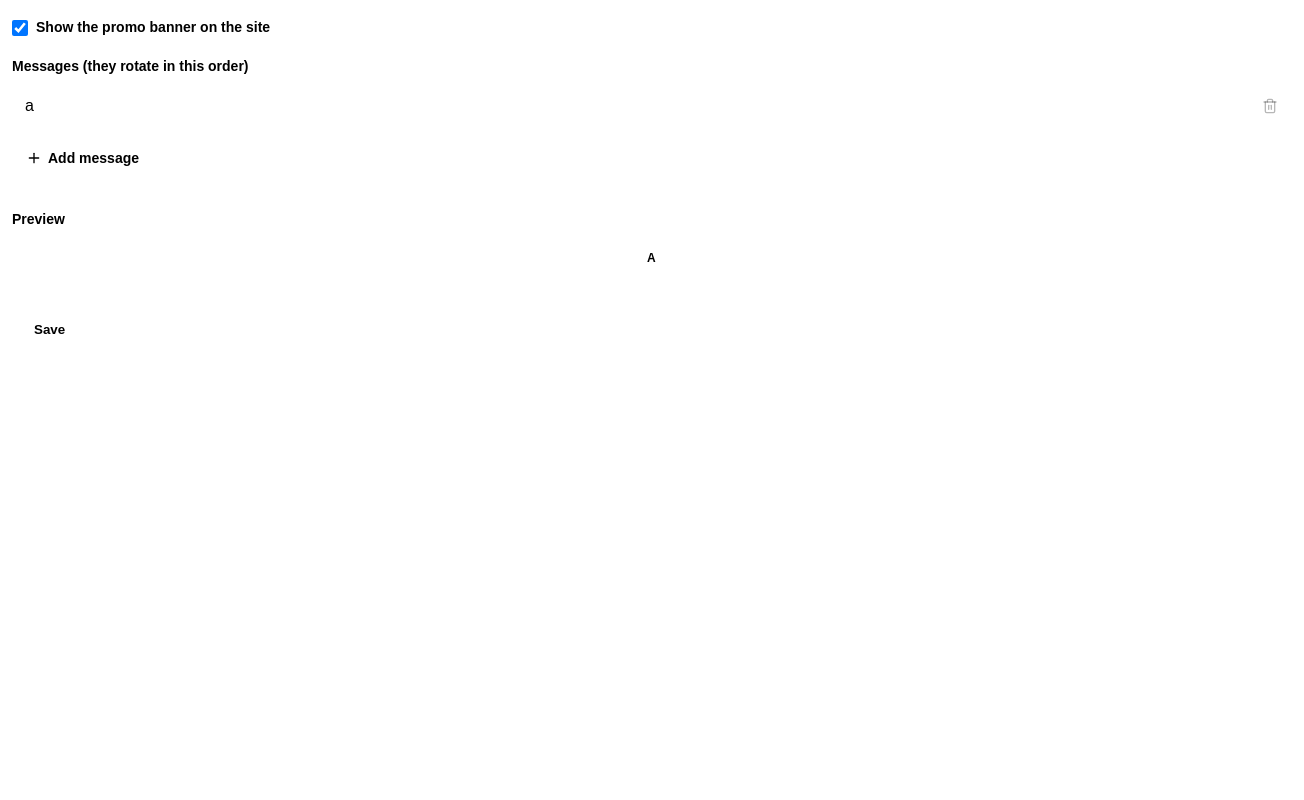
PromoBannerForm › adds and removes messages, capping at 6
The image size is (1304, 800).
Expected: the field showing "a" is shown, [12,82,1240,131]
Click the button "Add message" at [94, 158], box [12,139,1292,178]
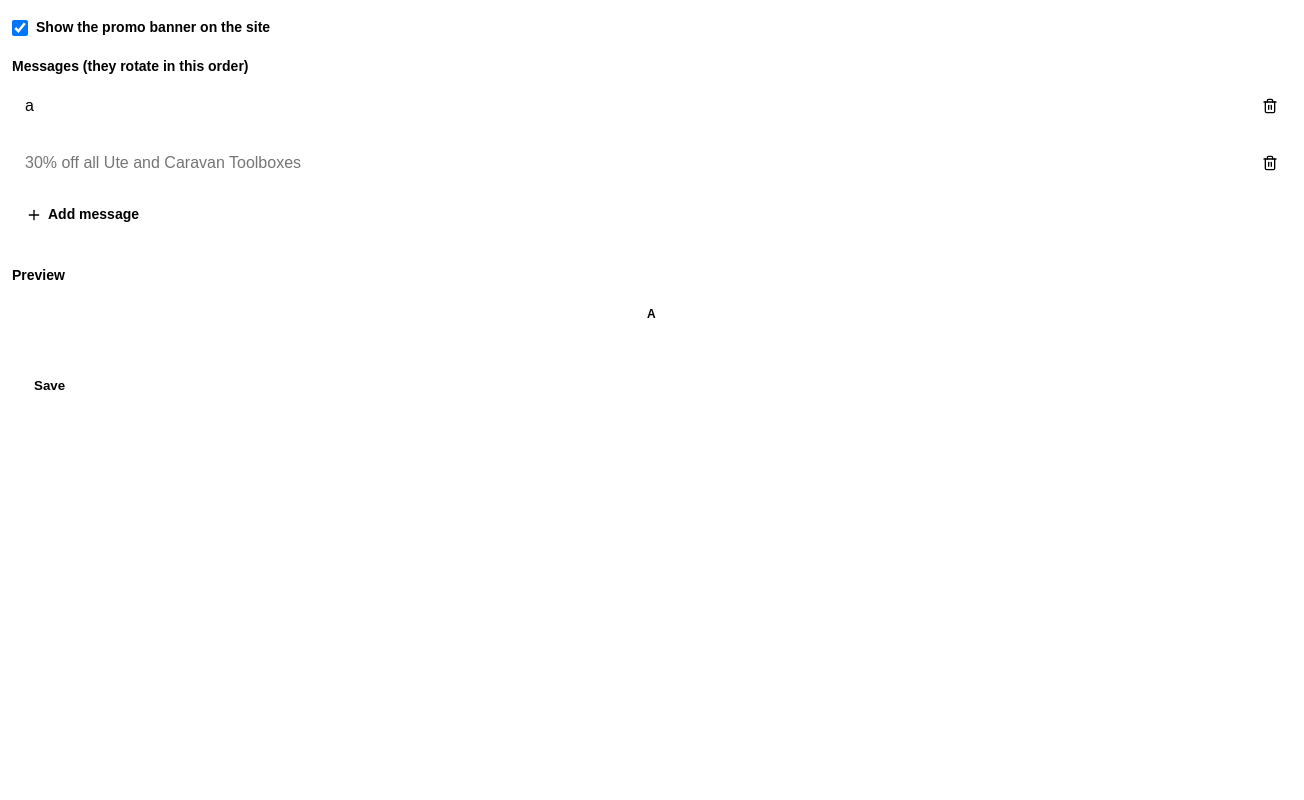
Click the button "Add message" at [94, 214], box [12,195,1292,234]
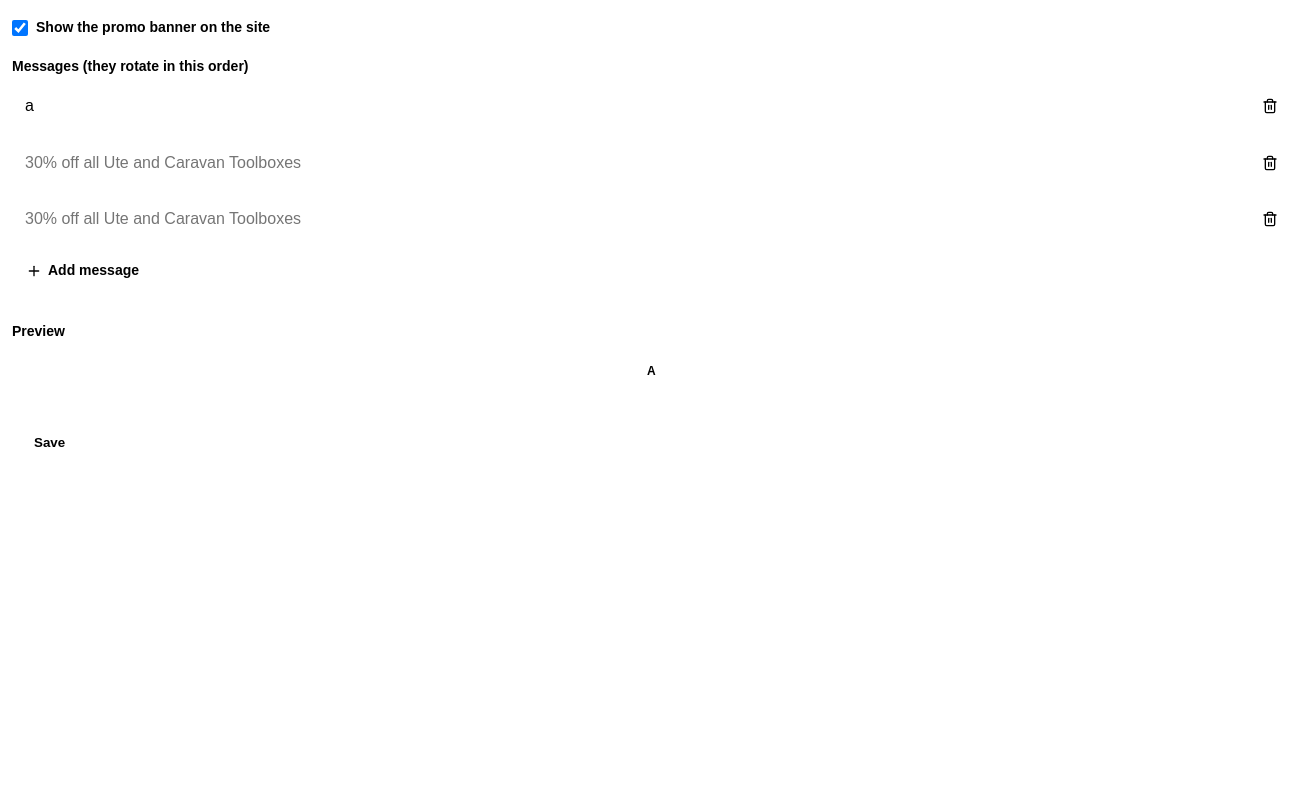
Click the button "Add message" at [94, 270], box [12,251,1292,290]
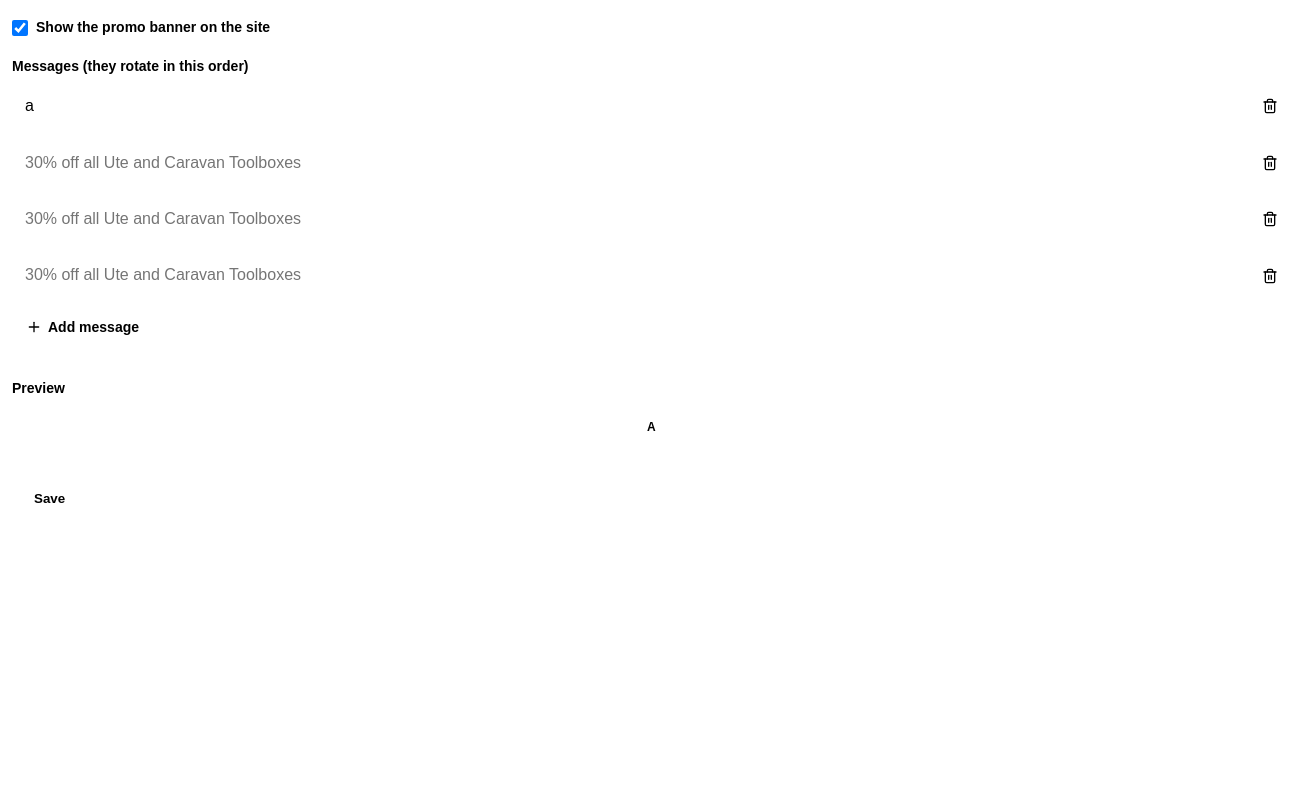
Click the button "Add message" at [94, 327], box [12,308,1292,347]
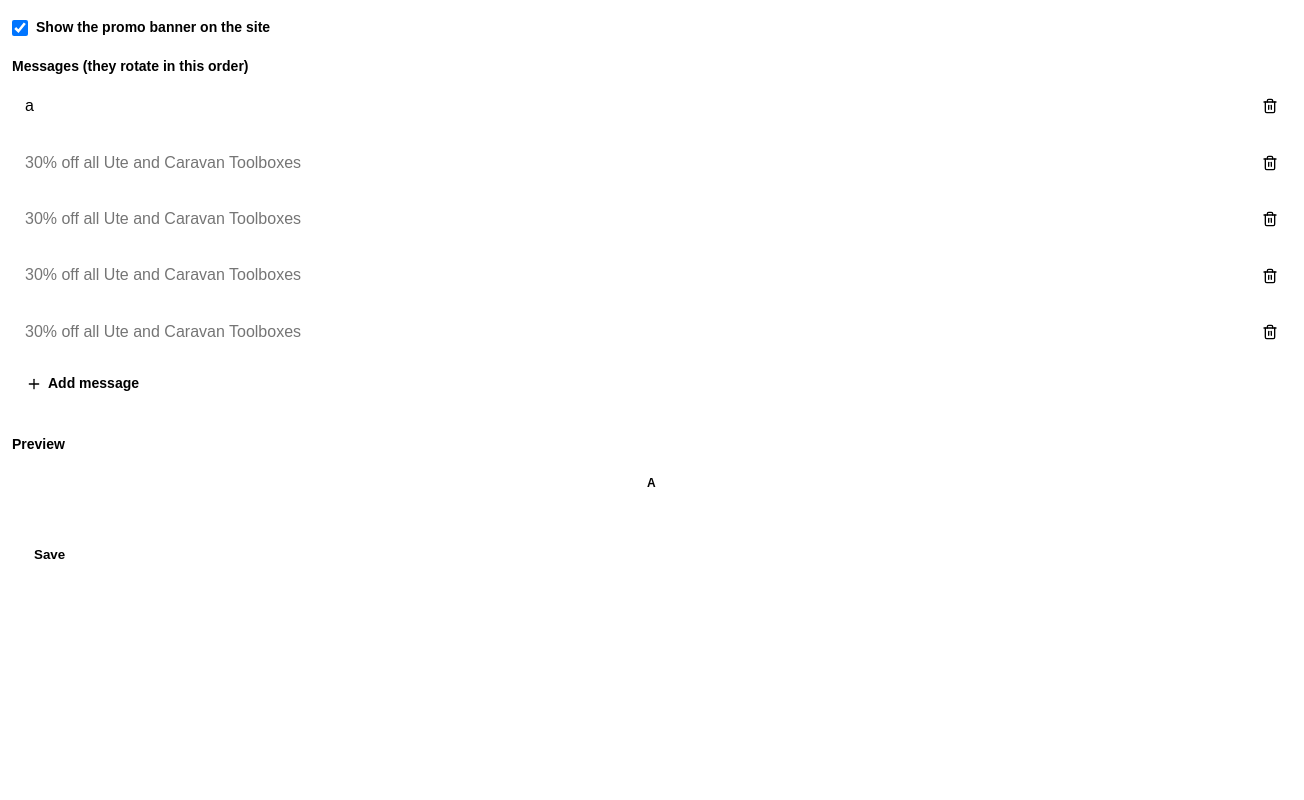
Click the button "Add message" at [94, 383], box [12,364,1292,403]
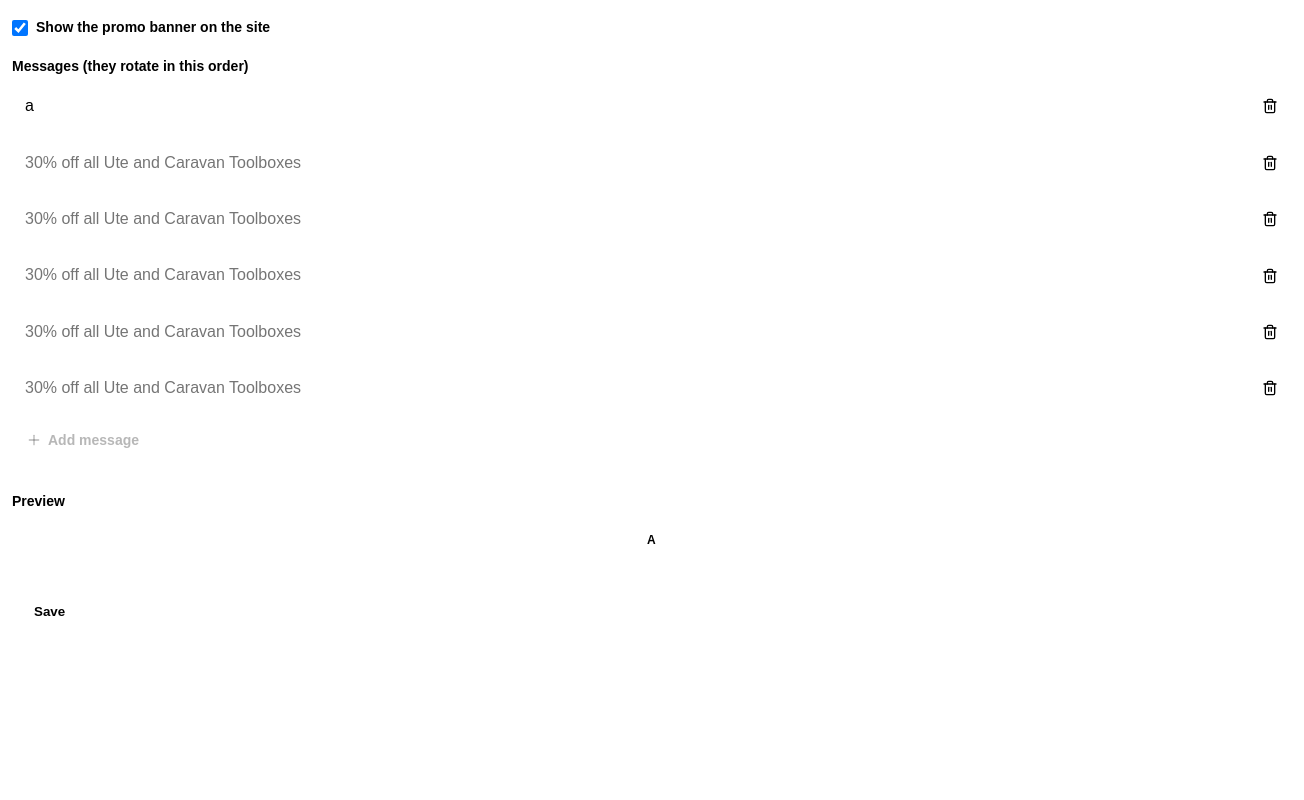
Now the number of fields named "Message 1" is 6, box [12,82,1240,131]; [12,139,1240,187]; [12,195,1240,243]; [12,251,1240,300]; [12,308,1240,356]; [12,364,1240,412]
Now the button "Add message" is disabled, box [12,420,1292,460]
Click the button named "remove message" at [1270, 106], box [1248,90,1292,122]
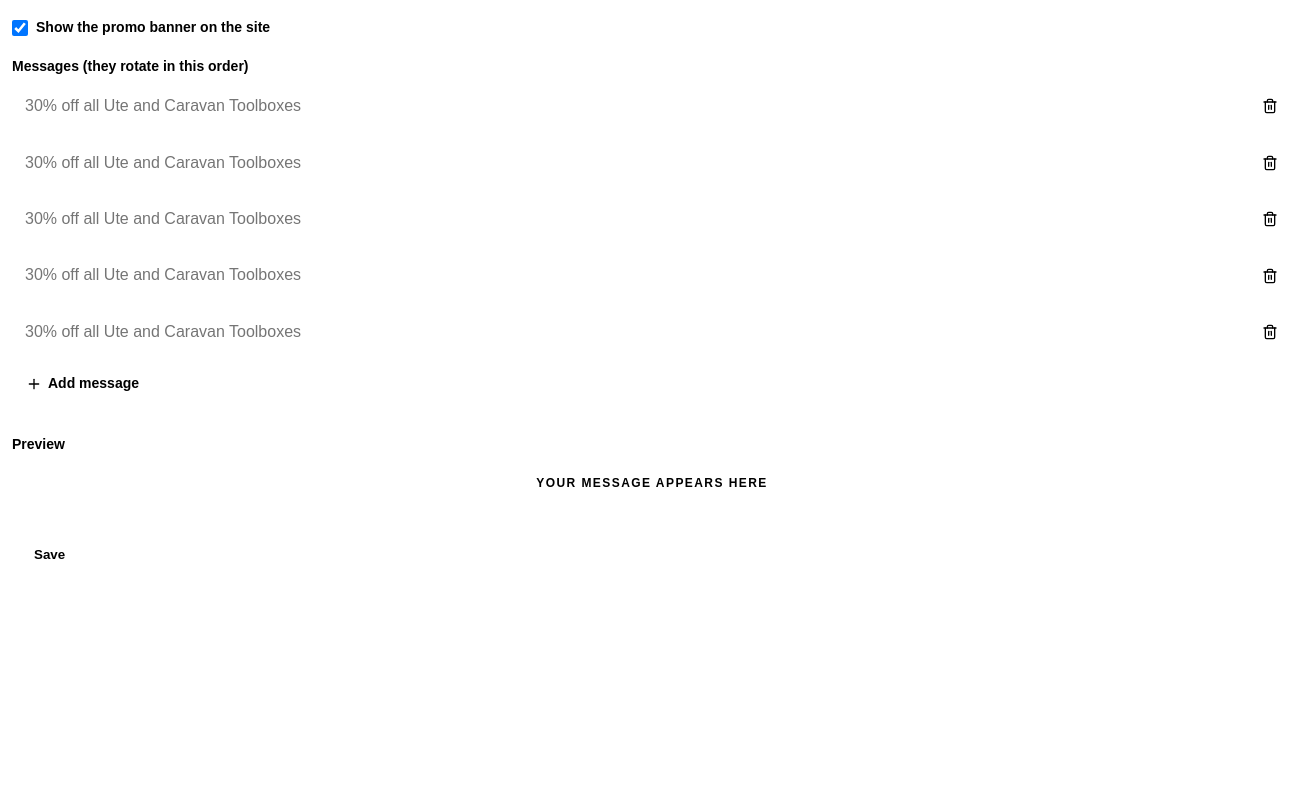
Now the number of fields labelled "30% off all Ute and Caravan Toolboxes" is 5, box [12,82,1240,131]; [12,139,1240,187]; [12,195,1240,243]; [12,251,1240,300]; [12,308,1240,356]
Now the button "Add message" is enabled, box [12,364,1292,403]
